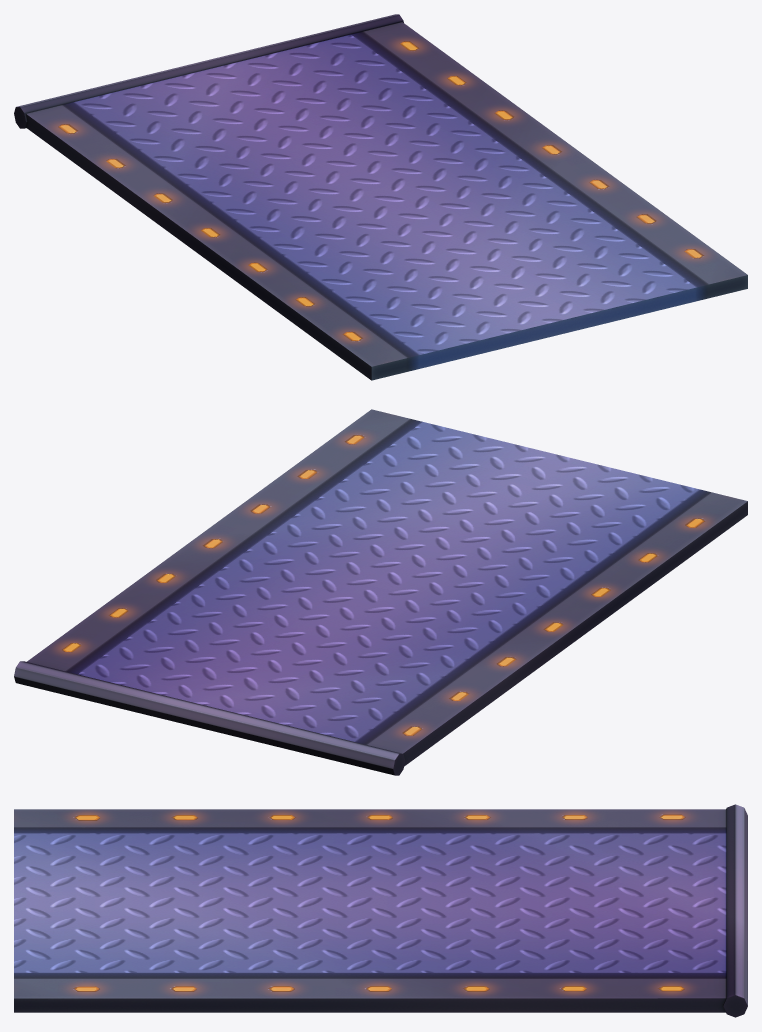
File: drawbridge.fbx
3 renders of one model, top to bottom at view 1: azimuth 30°, elevation 25°; view 2: azimuth 150°, elevation 25°; view 3: azimuth 270°, elevation 25°, orthographic. The views are drawn at different scales.
Parts seen in each view (by area): view 1: Plane.082; view 2: Plane.082; view 3: Plane.082.
Part boxes in pixels (x1,y1,x2,y2): Plane.082: (14, 14, 747, 380); Plane.082: (14, 409, 747, 775); Plane.082: (14, 804, 747, 1017).
Size of the model in its own units: 665 by 36.59 by 1081.
